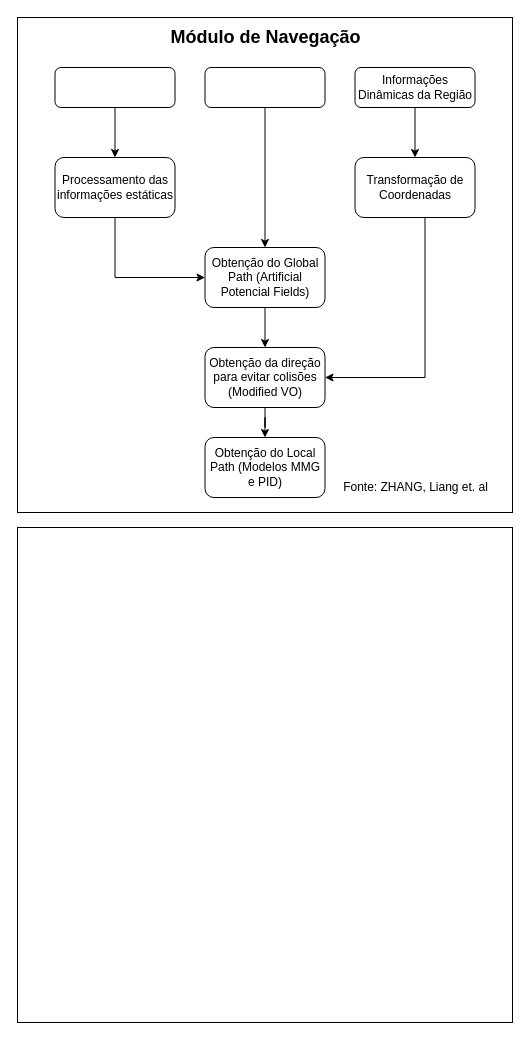
This 530x1040 diagram has some shape labels left out. The shapes that lost their labels are listed below. From the top down, each one's centre as x and y in pixels, then its label:
(x=114, y=87): Informações Estáticas da Região
(x=264, y=87): Origem e Destino
(x=264, y=774): Módulo de Comunicações
